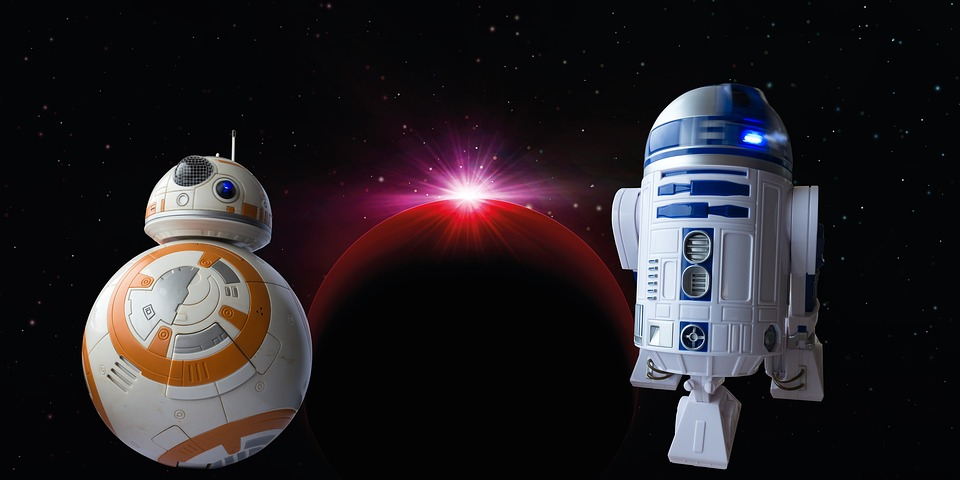r2d2: (613, 86, 830, 460)
